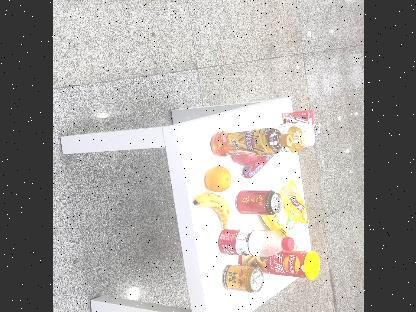Can: (222, 262, 262, 296), (235, 190, 282, 216)
Others: (235, 250, 320, 280), (281, 105, 315, 128)
Plastic Bottle: (206, 220, 296, 260), (209, 129, 293, 157)
